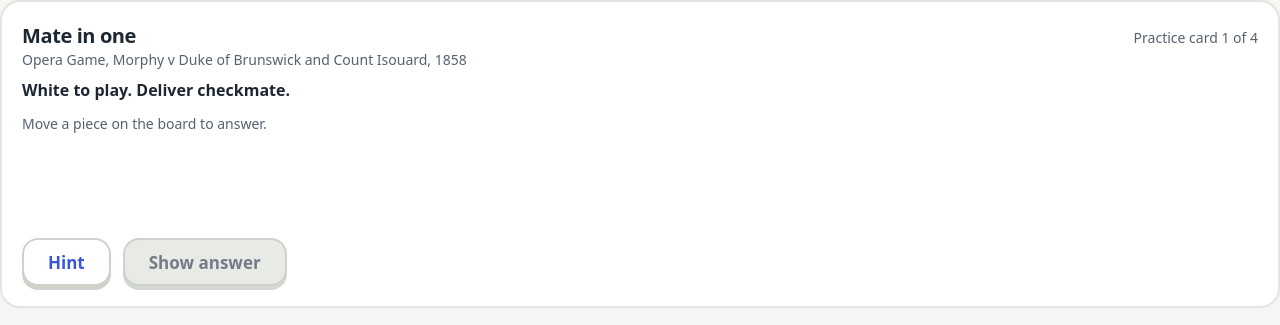
Practice cards › shows and hides the hint
What coordinates should you click on to do the following:
click the button "Hint"
I would click on:
 (66, 262)
Its box is [22,238,111,286].
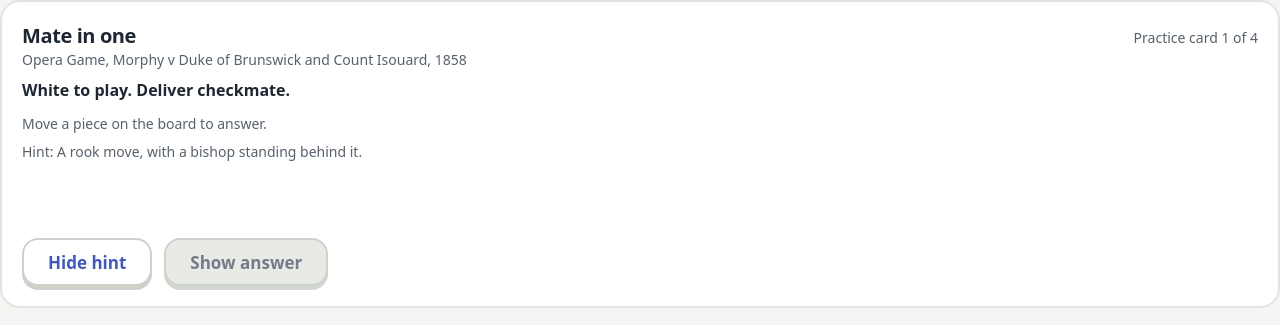
expect the text "Hint: A rook move, with a bishop standing behind it." is shown: met, box [22,142,362,161]
What coordinates should you click on to do the following:
click the button "Hide hint"
I would click on:
 (87, 262)
Its box is [22,238,152,286].
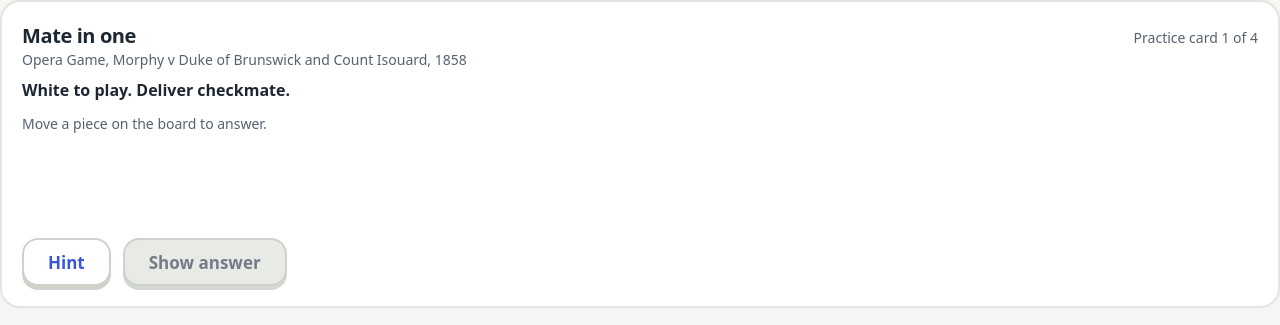
expect the text "A rook move" is gone: met
